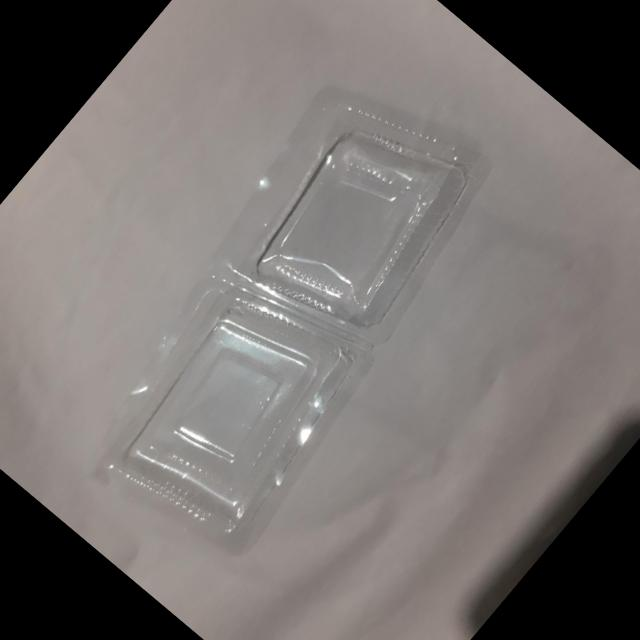KemasanPlastik: (35, 41, 546, 584)
